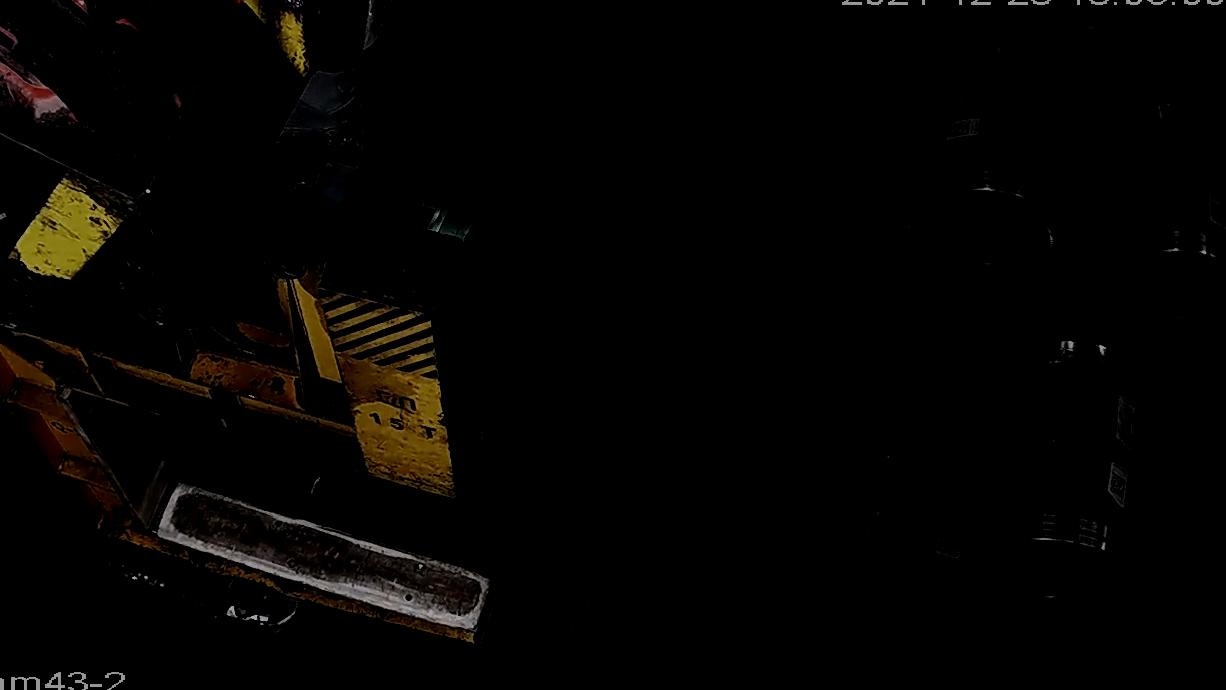data matrix: (1109, 471, 1128, 502), (951, 119, 974, 142), (1210, 200, 1226, 224)
